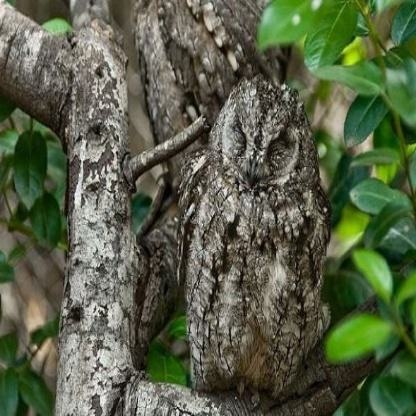Owl: (179, 81, 330, 380)
